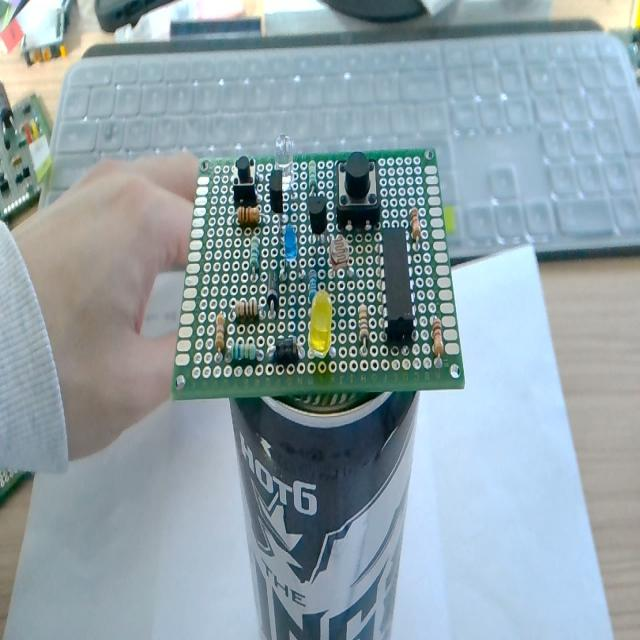IC: (368, 221, 416, 345)
cds: (326, 235, 356, 278)
diode: (268, 331, 304, 366), (267, 264, 281, 324)
led: (307, 296, 337, 367), (271, 131, 301, 181), (280, 223, 302, 277)
resistor: (429, 311, 449, 370), (227, 339, 268, 367), (353, 300, 373, 356), (231, 296, 264, 326), (230, 206, 264, 234), (304, 154, 325, 198), (213, 305, 227, 370), (246, 233, 262, 285), (409, 201, 424, 251), (307, 265, 319, 301)
switch: (335, 156, 387, 227), (231, 147, 263, 201)
transistor: (302, 196, 330, 247), (266, 171, 288, 221)
